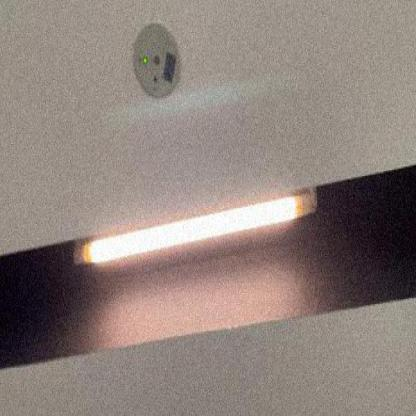light_on: (76, 173, 325, 288)
